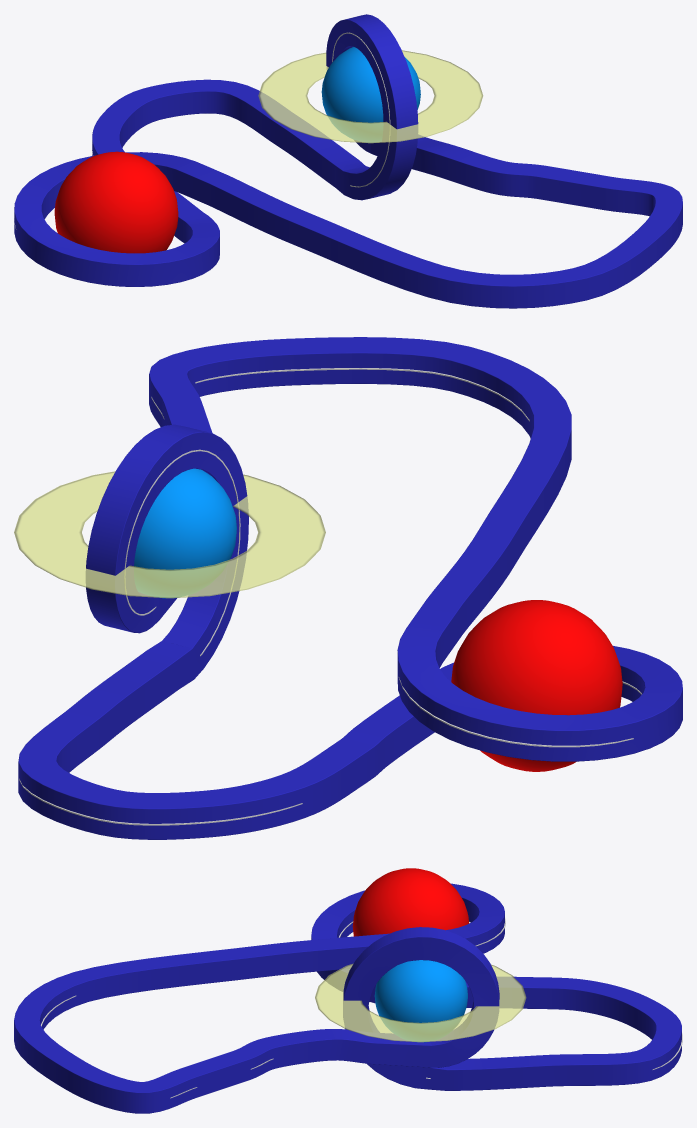
The model's file is Loop Map.FBX.
3 renders of one model, top to bottom at view 1: azimuth 30°, elevation 25°; view 2: azimuth 150°, elevation 25°; view 3: azimuth 270°, elevation 25°, orthographic. The views are drawn at different scales.
Parts seen in each view (by area): view 1: Boundary, Jupiter, Torus001, SATURN; view 2: Boundary, Torus001, Jupiter, SATURN, Track; view 3: Boundary, Torus001, SATURN, Jupiter.
Boxes of the visible parts, left/top/right/bottom form: Boundary: left=14, top=14, right=682, bottom=308; Jupiter: left=54, top=151, right=178, bottom=253; Torus001: left=258, top=50, right=483, bottom=143; SATURN: left=321, top=47, right=420, bottom=142; Boundary: left=18, top=337, right=682, bottom=839; Torus001: left=14, top=471, right=325, bottom=598; Jupiter: left=451, top=600, right=622, bottom=771; SATURN: left=134, top=468, right=236, bottom=598; Track: left=19, top=368, right=641, bottom=825; Boundary: left=14, top=883, right=681, bottom=1113; Torus001: left=315, top=963, right=526, bottom=1042; SATURN: left=374, top=960, right=467, bottom=1042; Jupiter: left=352, top=868, right=469, bottom=936.
Size of the model in its own units: 1181 by 396 by 1433.
